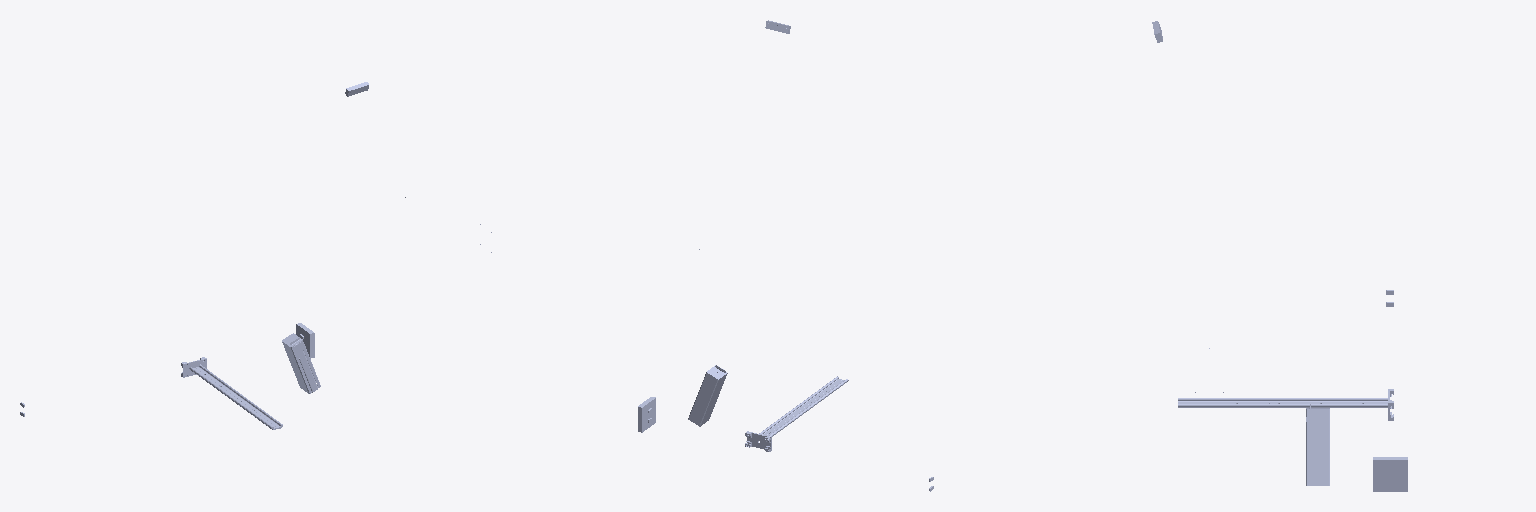
--- Facts derived from the render (not from the file) ---
Views: 3 orthographic renders of the robot side by side, from view 1: azimuth 30°, elevation 25°; view 2: azimuth 150°, elevation 25°; view 3: azimuth 270°, elevation 25°.
Model robo_description with 21 links and 20 joints (2 revolute, 2 prismatic, 16 fixed), rooted at base_link, posed all joints at 0 but 1 set to mid-range because 0 is outside their limits (joint5 = 0.4665).
Links seen in each view (by area): view 1: link2, link5; view 2: link2, link5, base_link; view 3: link2, link5, base_link.
Link boxes in pixels (x1=…): link2: x1=181, y1=357, x2=282, y2=429; link5: x1=282, y1=333, x2=320, y2=393; link2: x1=745, y1=376, x2=848, y2=451; link5: x1=688, y1=365, x2=727, y2=426; base_link: x1=638, y1=397, x2=933, y2=491; link2: x1=1178, y1=389, x2=1393, y2=420; link5: x1=1306, y1=404, x2=1329, y2=485; base_link: x1=1373, y1=290, x2=1407, y2=491.
Size in the robot's own frame: 1.65 by 0.7304 by 1.43 metres.
Meshes: 6 distinct files referenced, 4 mesh visuals loaded (4 binary STL); not drawn: 2 (reference not matched to a file when rendering).

robot.urdf — robo_description:
<?xml version="1.0" encoding="utf-8"?>
<!-- 25AUG2023 Changed the minimum limit of lJoint5 to 0.247 and max to 0.686 -->
<!-- This URDF was automatically created by SolidWorks to URDF Exporter! Originally created by Stephen Brawner ([email redacted]) 
     Commit Version: 1.6.0-4-g7f85cfe  Build Version: 1.6.7995.38578
     For more information, please see http://wiki.ros.org/sw_urdf_exporter -->
<robot
  name="robo_description">
  <link
    name="base_link">
    <inertial>
      <origin
        xyz="-5.13826234849775E-17 -1.63904738952765E-17 0.339473684210526"
        rpy="0 0 0" />
      <mass
        value="19" />
      <inertia
        ixx="2.34956140350877"
        ixy="1.11311423041845E-17"
        ixz="3.69215798456927E-16"
        iyy="2.34956140350877"
        iyz="-7.44985984223617E-17"
        izz="0.151666666666667" />
    </inertial>
    <visual>
      <origin
        xyz="0 0 0"
        rpy="0 0 0" />
      <geometry>
        <mesh
          filename="package://robo_description/meshes/base_link.STL" />
      </geometry>
      <material
        name="">
        <color
          rgba="0.792156862745098 0.819607843137255 0.933333333333333 1" />
      </material>
    </visual>
    <collision>
      <origin
        xyz="0 0 0"
        rpy="0 0 0" />
      <geometry>
        <mesh
          filename="package://robo_description/meshes/base_link.STL" />
      </geometry>
    </collision>
  </link>
  <link
    name="link2">
    <inertial>
      <origin
        xyz="-0.001261 -0.2858 0.14572"
        rpy="0 0 0" />
      <mass
        value="3.13280329013611" />
      <inertia
        ixx="0.0169430024052603"
        ixy="-0.00280446630124331"
        ixz="0.0223183329111622"
        iyy="0.162057682822749"
        iyz="0.000505061238040558"
        izz="0.161640952999751" />
    </inertial>
    <visual>
      <origin
        xyz="0 0 -1"
        rpy="0 0 0" />
      <geometry>
        <mesh
          filename="package://robo_description/meshes/link2.STL" />
      </geometry>
      <material
        name="">
        <color
          rgba="0.792156862745098 0.819607843137255 0.933333333333333 1" />
      </material>
    </visual>
    <collision>
      <origin
        xyz="0 0 0"
        rpy="0 0 0" />
      <geometry>
        <mesh
          filename="package://robo_description/meshes/link2.STL" />
      </geometry>
    </collision>
  </link>
  <joint
    name="joint2"
    type="prismatic">
    <origin
      xyz="0.0 0 1"
      rpy="0 0 0" />
    <parent
      link="base_link" />
    <child
      link="link2" />
    <axis
      xyz="0 0 1" />
    <limit
      lower="0"
      upper="1"
      effort="0"
      velocity="0" />
  </joint>
  <link
    name="link4">
    <inertial>
      <origin
        xyz="-0.000438554587764983 0.0620490502692163 -0.172885898172371"
        rpy="0 0 0" />
      <mass
        value="0.162146723185788" />
      <inertia
        ixx="0.00336616371871891"
        ixy="1.46811284877534E-06"
        ixz="-3.57096843523024E-06"
        iyy="0.00312866852492012"
        iyz="0.00048231220150353"
        izz="0.000338308018448651" />
    </inertial>
    <visual>
      <origin
        xyz="-0.4665 0 -0.790"
        rpy="0 0 0" />
      <geometry>
        <mesh
          filename="package://robo_description/meshes/link4.STL" />
      </geometry>
      <material
        name="">
        <color
          rgba="0.792156862745098 0.819607843137255 0.933333333333333 1" />
      </material>
    </visual>
    <collision>
      <origin
        xyz="0 0 0"
        rpy="0 0 0" />
      <geometry>
        <mesh
          filename="package://robo_description/meshes/link4.STL" />
      </geometry>
    </collision>
  </link>
  <joint
    name="joint4"
    type="revolute">
    <origin
      xyz="0.46904 0 -0.21"
      rpy="0 0 0" />
    <parent
      link="link2" />
    <child
      link="link4" />
    <axis
      xyz="0 0 1" />
    <limit
      lower="-2.9671"
      upper="2.9671"
      effort="0"
      velocity="0" />
  </joint>
  <link
    name="link3">
    <inertial>
      <origin
        xyz="-0.0832189655707039 -0.0894795892974461 -0.00179630042130147"
        rpy="0 0 0" />
      <mass
        value="1.71811977068641" />
      <inertia
        ixx="0.00948440583507882"
        ixy="-0.00159429497921182"
        ixz="0.00308193362516688"
        iyy="0.035537875179704"
        iyz="0.000648421421055908"
        izz="0.0305779645247813" />
    </inertial>
    <visual>
      <origin
        xyz="-0.468545 -0.078 -0.43528"
        rpy="0 0 0" />
      <geometry>
        <mesh
          filename="package://robo_description/meshes/link3.STL" />
      </geometry>
      <material
        name="">
        <color
          rgba="0.792156862745098 0.819607843137255 0.933333333333333 1" />
      </material>
    </visual>
    <collision>
      <origin
        xyz="0 0 0"
        rpy="0 0 0" />
      <geometry>
        <mesh
          filename="package://robo_description/meshes/link3.STL" />
      </geometry>
    </collision>
  </link>
  <joint
    name="joint3"
    type="revolute">
    <origin
      xyz="0.0 0.077824 -0.35472"
      rpy="0 0 0" />
    <parent
      link="link4" />
    <child
      link="link3" />
    <axis
      xyz="0 1 0" />
    <limit
      lower="-1.5708"
      upper="1.5708"
      effort="0"
      velocity="0" />
  </joint>
  <link
    name="yanthra_link">
    <inertial>
      <origin
        xyz="-0.0832189655707036 -0.0114795892974462 -0.00179630042130124"
        rpy="0 0 0" />
      <mass
        value="1.71811977068641" />
      <inertia
        ixx="0.00948440583507882"
        ixy="-0.00159429497921182"
        ixz="0.0030819336251669"
        iyy="0.035537875179704"
        iyz="0.000648421421055907"
        izz="0.0305779645247813" />
    </inertial>
    <visual>
      <origin
        xyz="0 0 0"
        rpy="0 0 0" />
      <geometry>
        <box size="0.001 0.001 0.001"/>
      </geometry>
      <material
        name="">
        <color
          rgba="0.792156862745098 0.819607843137255 0.933333333333333 1" />
      </material>
    </visual>
    <collision>
      <origin
        xyz="0 0 0"
        rpy="0 0 0" />
      <geometry>
        <box size="0.001 0.001 0.001"/>
      </geometry>
    </collision>
  </link>
  <joint
    name="yanthra_joint"
    type="fixed">
    <origin
      xyz="0 -0.078 0"
      rpy="0 0 0" />
    <parent
      link="link3" />
    <child
      link="yanthra_link" />
    <axis
      xyz="0 0 0" />
  </joint>
  <link
    name="link5_origin">
    <inertial>
      <origin
        xyz="-0.00874999999999998 0.0375 -0.00507843424240889"
        rpy="0 0 0" />
      <mass
        value="0.0438088883035136" />
      <inertia
        ixx="3.24913884800222E-05"
        ixy="1.33063310958086E-21"
        ixz="-8.470329472543E-22"
        iyy="3.99574478810853E-06"
        iyz="-3.38875204913906E-21"
        izz="3.07317223657389E-05" />
    </inertial>
    <visual>
      <origin
        xyz="0 0 0"
        rpy="0 0 0" />
      <geometry>
        <box size="0.001 0.001 0.001"/>
      </geometry>
      <material
        name="">
        <color
          rgba="0.792156862745098 0.819607843137255 0.933333333333333 1" />
      </material>
    </visual>
    <collision>
      <origin
        xyz="0 0 0"
        rpy="0 0 0" />
      <geometry>
        <box size="0.001 0.001 0.001"/>
      </geometry>
    </collision>
  </link>
  <joint
    name="link5_origin_joint"
    type="fixed">
    <origin
      xyz="0 0 0.0"
      rpy="0 0 0" />
    <parent	
      link="yanthra_link" />
    <child
      link="link5_origin" />
    <axis
      xyz="0 0 0" />
  </joint>
  <link
    name="link5">
    <inertial>
      <origin
        xyz="0.108132413871145 2.08242781028485E-06 0.00569147154470495"
        rpy="0 0 0" />
      <mass
        value="0.277404400359573" />
      <inertia
        ixx="0.00021628976171093"
        ixy="1.27900715148446E-06"
        ixz="-0.000135093187106687"
        iyy="0.00359200319167061"
        iyz="-8.36237914028336E-08"
        izz="0.00358633509004247" />
    </inertial>
    <visual>
      <origin
        xyz="-0.715545 0 -0.43528"
        rpy="0 0 0" />
      <geometry>
        <mesh
          filename="package://robo_description/meshes/link5.STL" />
      </geometry>
      <material
        name="">
        <color
          rgba="0.792156862745098 0.819607843137255 0.933333333333333 1" />
      </material>
    </visual>
    <collision>
      <origin
        xyz="0 0 0"
        rpy="0 0 0" />
      <geometry>
        <mesh
          filename="package://robo_description/meshes/link5.STL" />
      </geometry>
    </collision>
  </link>
  <joint
    name="joint5"
    type="prismatic">
    <origin
      xyz="0.0 0 0"
      rpy="0 0 0" />
    <parent
      link="link5_origin" />
    <child
      link="link5" />
    <axis
      xyz="1 0 0" />
    <limit
      lower="0.247"
      upper="0.686"
      effort="0"
      velocity="0" />
  </joint>
  <link
    name="ee_link">
    <inertial>
      <origin
        xyz="-0.00874999999999998 0.0375 -0.00507843424240889"
        rpy="0 0 0" />
      <mass
        value="0.0438088883035136" />
      <inertia
        ixx="3.24913884800222E-05"
        ixy="1.33063310958086E-21"
        ixz="-8.470329472543E-22"
        iyy="3.99574478810853E-06"
        iyz="-3.38875204913906E-21"
        izz="3.07317223657389E-05" />
    </inertial>
    <visual>
      <origin
        xyz="0 0 0"
        rpy="0 0 0" />
      <geometry>
        <box size="0.001 0.001 0.001"/>
      </geometry>
      <material
        name="">
        <color
          rgba="0.792156862745098 0.819607843137255 0.933333333333333 1" />
      </material>
    </visual>
    <collision>
      <origin
        xyz="0 0 0"
        rpy="0 0 0" />
      <geometry>
        <box size="0.001 0.001 0.001"/>
      </geometry>
    </collision>
  </link>
  <joint
    name="ee_joint"
    type="fixed">
    <origin
      xyz="-0.085 0 0"
      rpy="0 0 0" />
    <parent	
      link="link5" />
    <child
      link="ee_link" />
    <axis
      xyz="0 0 0" />
  </joint>
  <link
    name="aruco_marker_link">
    <inertial>
      <origin
        xyz="-0.00874999999999998 0.0375 -0.00507843424240889"
        rpy="0 0 0" />
      <mass
        value="0.0438088883035136" />
      <inertia
        ixx="3.24913884800222E-05"
        ixy="1.33063310958086E-21"
        ixz="-8.470329472543E-22"
        iyy="3.99574478810853E-06"
        iyz="-3.38875204913906E-21"
        izz="3.07317223657389E-05" />
    </inertial>
    <visual>
      <origin
        xyz="0 0 0"
        rpy="0 0 0" />
      <geometry>
        <box size="0.001 0.001 0.001"/>
      </geometry>
      <material
        name="">
        <color
          rgba="0.792156862745098 0.819607843137255 0.933333333333333 1" />
      </material>
    </visual>
    <collision>
      <origin
        xyz="0 0 0"
        rpy="0 0 0" />
      <geometry>
        <box size="0.001 0.001 0.001"/>
      </geometry>
    </collision>
  </link>
  <joint
    name="aruco_joint"
    type="fixed">
    <origin
      xyz="0.0 0 0.08"
      rpy="0 0 0" />
    <parent	
      link="ee_link" />
    <child
      link="aruco_marker_link" />
    <axis
      xyz="0 0 0" />
  </joint>
  <link
    name="aruco_link_1">
    <inertial>
      <origin
        xyz="-0.00874999999999998 0.0375 -0.00507843424240889"
        rpy="0 0 0" />
      <mass
        value="0.0438088883035136" />
      <inertia
        ixx="3.24913884800222E-05"
        ixy="1.33063310958086E-21"
        ixz="-8.470329472543E-22"
        iyy="3.99574478810853E-06"
        iyz="-3.38875204913906E-21"
        izz="3.07317223657389E-05" />
    </inertial>
    <visual>
      <origin
        xyz="0 0 0"
        rpy="0 0 0" />
      <geometry>
        <box size="0.001 0.001 0.001"/>
      </geometry>
      <material
        name="">
        <color
          rgba="0.792156862745098 0.819607843137255 0.933333333333333 1" />
      </material>
    </visual>
    <collision>
      <origin
        xyz="0 0 0"
        rpy="0 0 0" />
      <geometry>
        <box size="0.001 0.001 0.001"/>
      </geometry>
    </collision>
  </link>
  <joint
    name="aruco_joint_1"
    type="fixed">
    <origin
      xyz="0.0 0.04 0.04"
      rpy="0 0 0" />
    <parent	
      link="aruco_marker_link" />
    <child
      link="aruco_link_1" />
    <axis
      xyz="0 0 0" />
  </joint>
  <link
    name="aruco_link_2">
    <inertial>
      <origin
        xyz="-0.00874999999999998 0.0375 -0.00507843424240889"
        rpy="0 0 0" />
      <mass
        value="0.0438088883035136" />
      <inertia
        ixx="3.24913884800222E-05"
        ixy="1.33063310958086E-21"
        ixz="-8.470329472543E-22"
        iyy="3.99574478810853E-06"
        iyz="-3.38875204913906E-21"
        izz="3.07317223657389E-05" />
    </inertial>
    <visual>
      <origin
        xyz="0 0 0"
        rpy="0 0 0" />
      <geometry>
        <box size="0.001 0.001 0.001"/>
      </geometry>
      <material
        name="">
        <color
          rgba="0.792156862745098 0.819607843137255 0.933333333333333 1" />
      </material>
    </visual>
    <collision>
      <origin
        xyz="0 0 0"
        rpy="0 0 0" />
      <geometry>
        <box size="0.001 0.001 0.001"/>
      </geometry>
    </collision>
  </link>
  <joint
    name="aruco_joint_2"
    type="fixed">
    <origin
      xyz="0.0 -0.04 0.04"
      rpy="0 0 0" />
    <parent	
      link="aruco_marker_link" />
    <child
      link="aruco_link_2" />
    <axis
      xyz="0 0 0" />
  </joint>
  <link
    name="aruco_link_3">
    <inertial>
      <origin
        xyz="-0.00874999999999998 0.0375 -0.00507843424240889"
        rpy="0 0 0" />
      <mass
        value="0.0438088883035136" />
      <inertia
        ixx="3.24913884800222E-05"
        ixy="1.33063310958086E-21"
        ixz="-8.470329472543E-22"
        iyy="3.99574478810853E-06"
        iyz="-3.38875204913906E-21"
        izz="3.07317223657389E-05" />
    </inertial>
    <visual>
      <origin
        xyz="0 0 0"
        rpy="0 0 0" />
      <geometry>
        <box size="0.001 0.001 0.001"/>
      </geometry>
      <material
        name="">
        <color
          rgba="0.792156862745098 0.819607843137255 0.933333333333333 1" />
      </material>
    </visual>
    <collision>
      <origin
        xyz="0 0 0"
        rpy="0 0 0" />
      <geometry>
        <box size="0.001 0.001 0.001"/>
      </geometry>
    </collision>
  </link>
  <joint
    name="aruco_joint_3"
    type="fixed">
    <origin
      xyz="0.0 0.04 -0.04"
      rpy="0 0 0" />
    <parent	
      link="aruco_marker_link" />
    <child
      link="aruco_link_3" />
    <axis
      xyz="0 0 0" />
  </joint>
  <link
    name="aruco_link_4">
    <inertial>
      <origin
        xyz="-0.00874999999999998 0.0375 -0.00507843424240889"
        rpy="0 0 0" />
      <mass
        value="0.0438088883035136" />
      <inertia
        ixx="3.24913884800222E-05"
        ixy="1.33063310958086E-21"
        ixz="-8.470329472543E-22"
        iyy="3.99574478810853E-06"
        iyz="-3.38875204913906E-21"
        izz="3.07317223657389E-05" />
    </inertial>
    <visual>
      <origin
        xyz="0 0 0"
        rpy="0 0 0" />
      <geometry>
        <box size="0.001 0.001 0.001"/>
      </geometry>
      <material
        name="">
        <color
          rgba="0.792156862745098 0.819607843137255 0.933333333333333 1" />
      </material>
    </visual>
    <collision>
      <origin
        xyz="0 0 0"
        rpy="0 0 0" />
      <geometry>
        <box size="0.001 0.001 0.001"/>
      </geometry>
    </collision>
  </link>
  <joint
    name="aruco_joint_4"
    type="fixed">
    <origin
      xyz="0.0 -0.04 -0.04"
      rpy="0 0 0" />
    <parent	
      link="aruco_marker_link" />
    <child
      link="aruco_link_4" />
    <axis
      xyz="0 0 0" />
  </joint>
  <link
    name="link7">
    <inertial>
      <origin
        xyz="-0.00129487747822488 -0.0114795892973884 0.11996423535158"
        rpy="0 0 0" />
      <mass
        value="1.71811977068641" />
      <inertia
        ixx="0.0113386071435481"
        ixy="-0.00171490439294498"
        ixz="-0.00672100859249017"
        iyy="0.0355378751797041"
        iyz="-0.0001460470577602"
        izz="0.0287237632163119" />
    </inertial>
    <visual>
      <origin
        xyz="0 0 0"
        rpy="0 0 0" />
      <geometry>
        <box size="0.001 0.001 0.001"/>
      </geometry>
      <material
        name="">
        <color
          rgba="0.792156862745098 0.819607843137255 0.933333333333333 1" />
      </material>
    </visual>
    <collision>
      <origin
        xyz="0 0 0"
        rpy="0 0 0" />
      <geometry>
        <box size="0.001 0.001 0.001"/>
      </geometry>
    </collision>
  </link>
  <joint
    name="joint7"
    type="fixed">
    <origin
      xyz="0.47229 -0.069971 0.79711"
      rpy="0 0.785398 -1.5708" />
    <parent
      link="base_link"/>
    <child
      link="link7"/>
    <axis
      xyz="0 0 0" />
  </joint>
  <link
    name="camera_mount_link">
    <inertial>
      <origin
        xyz="-0.00129487747822488 -0.0114795892973883 0.11996423535158"
        rpy="0 0 0" />
      <mass
        value="1.71811977068641" />
      <inertia
        ixx="0.0113386071435481"
        ixy="-0.00171490439294498"
        ixz="-0.00672100859249018"
        iyy="0.0355378751797041"
        iyz="-0.000146047057760202"
        izz="0.0287237632163119" />
    </inertial>
    <visual>
      <origin
        xyz="0 0 0"
        rpy="0 0 0" />
      <geometry>
        <box size="0.001 0.001 0.001"/>
      </geometry>
      <material
        name="">
        <color
          rgba="0.792156862745098 0.819607843137255 0.933333333333333 1" />
      </material>
    </visual>
    <collision>
      <origin
        xyz="0 0 0"
        rpy="0 0 0" />
      <geometry>
        <box size="0.001 0.001 0.001"/>
      </geometry>
    </collision>
  </link>
     <!--Realsense Camera depth is 20 mm from back to glass, But the depth start point(GROUND ZERO REFERENCE i.e depth is Zero) is 1.1 mm behind glass-->
     <!--Camera thickness-Zero Ref +Plate thick=20-1.1+2 = 20.09 mm -->
     <!-- xyz="0.0209 -0.0375 0"-->
  <joint
    name="camera_mount_joint"
    type="fixed">
    <origin
      xyz="0.02090 -0.0375 0"
      rpy="-1.5708 0 -1.5708" />
    <parent
      link="link7" />
    <child
      link="camera_mount_link" />
    <axis
      xyz="0 0 0" />
  </joint>
  <link
    name="virtual_cam_link">
    <inertial>
      <origin
        xyz="-0.00874999999999998 0.0375 -0.00507843424240889"
        rpy="0 0 0" />
      <mass
        value="0.0438088883035136" />
      <inertia
        ixx="3.24913884800222E-05"
        ixy="1.33063310958086E-21"
        ixz="-8.470329472543E-22"
        iyy="3.99574478810853E-06"
        iyz="-3.38875204913906E-21"
        izz="3.07317223657389E-05" />
    </inertial>
    <visual>
      <origin
        xyz="0 0 0"
        rpy="0 0 0" />
      <geometry>
        <box size="0.001 0.001 0.001"/>
      </geometry>
      <material
        name="">
        <color
          rgba="0.792156862745098 0.819607843137255 0.933333333333333 1" />
      </material>
    </visual>
    <collision>
      <origin
        xyz="0 0 0"
        rpy="0 0 0" />
      <geometry>
        <box size="0.001 0.001 0.001"/>
      </geometry>
    </collision>
  </link>
  <joint
    name="virtual_cam_link_joint"
    type="fixed">
    <origin
      xyz="0 0 0"
      rpy="0 0 0" />
    <parent	
      link="camera_mount_link" />
    <child
      link="virtual_cam_link" />
    <axis
      xyz="0 0 0" />
  </joint>

  <link
    name="camera_link">
    <inertial>
      <origin
        xyz="-0.00874999999999998 0.0375 -0.00507843424240889"
        rpy="0 0 0" />
      <mass
        value="0.0438088883035136" />
      <inertia
        ixx="3.24913884800222E-05"
        ixy="1.33063310958086E-21"
        ixz="-8.470329472543E-22"
        iyy="3.99574478810853E-06"
        iyz="-3.38875204913906E-21"
        izz="3.07317223657389E-05" />
    </inertial>
    <visual>
      <origin
        xyz="-0.03768 -0.425 -0.175"
        rpy="0 -2.04 -1.5708" />
      <geometry>
        <mesh
          filename="package://robo_description/meshes/camera_link.STL" />
      </geometry>
      <material
        name="">
        <color
          rgba="0.792156862745098 0.819607843137255 0.933333333333333 1" />
      </material>
    </visual>
    <collision>
      <origin
        xyz="0 0 0"
        rpy="0 0 0" />
      <geometry>
        <mesh
          filename="package://robo_description/meshes/camera_link.STL" />
      </geometry>
    </collision>
  </link>
  <joint
    name="camera_link_joint"
    type="fixed">
    <origin
      xyz="-0.00641791 0.0306783 0.0260621"
      rpy="0.135334 -0.07644 -0.0235117" />
    <parent
      link="virtual_cam_link" />
    <child
      link="camera_link" />
    <axis
      xyz="0 0 0" />
  </joint>

  <link name="camera_depth_frame">

    <visual>

    <origin xyz="0 0 0" rpy="0 0 0" />

      <geometry>

        <box size="0.001 0.001 0.001"/>

      </geometry>

    </visual>

  </link>

  <joint name="camera_depth_frame_joint" type="fixed">

    <origin rpy="0 0 0" xyz="0 0 0"/>

    <parent link="camera_link"/>

    <child link="camera_depth_frame"/>

  </joint>

  <link name="camera_depth_optical_frame">

    <visual>

    <origin xyz="0 0 0" rpy="0 0 0" />

      <geometry>

        <box size="0.001 0.001 0.001"/>

      </geometry>

    </visual>

  </link>

  <joint name="camera_depth_optical_frame_joint" type="fixed">

   <origin rpy="0 0 0" xyz="0 0 0"/>

   <parent link="camera_depth_frame"/>

   <child link="camera_depth_optical_frame"/>

  </joint>

  <link name="camera_color_frame">

    <visual>

    <origin xyz="0 0 0" rpy="0 0 0" />

      <geometry>

        <box size="0.001 0.001 0.001"/>

      </geometry>

    </visual>

  </link>

  <joint name="camera_color_frame_joint" type="fixed">

    <origin rpy="0 0 0" xyz="0 0 0"/>

    <parent link="camera_link"/>

    <child link="camera_color_frame"/>

  </joint>

  <link name="camera_color_optical_frame">

    <visual>

    <origin xyz="0 0 0" rpy="0 0 0" />

      <geometry>

        <box size="0.001 0.001 0.001"/>

      </geometry>

    </visual>

  </link>

  <joint name="camera_color_optical_frame_joint" type="fixed">

   <origin rpy="0 0 0" xyz="0 0 0"/>

   <parent link="camera_color_frame"/>

   <child link="camera_color_optical_frame"/>

  </joint>
  <gazebo reference="stand">

    <material>Gazebo/Grey</material>

  </gazebo>

  <gazebo reference="link3">

    <material>Gazebo/Green</material>

  </gazebo>

  <gazebo reference="link4">

    <material>Gazebo/Red</material>

  </gazebo>

  <gazebo reference="link5">

    <material>Gazebo/Green</material>

  </gazebo>

  <gazebo reference="link9">

    <material>Gazebo/Red</material>

  </gazebo>

  <gazebo reference="link6">

    <material>Gazebo/White</material>

  </gazebo>

  <transmission name="tran1">

    <type>transmission_interface/SimpleTransmission</type>

    <joint name="joint3">

      <hardwareInterface>hardware_interface/PositionJointInterface</hardwareInterface>

    </joint>

    <actuator name="motor1">

      <hardwareInterface>hardware_interface/PositionJointInterface</hardwareInterface>

      <mechanicalReduction>1</mechanicalReduction>

    </actuator>

  </transmission>

  <transmission name="tran1">

    <type>transmission_interface/SimpleTransmission</type>

    <joint name="joint4">

      <hardwareInterface>hardware_interface/PositionJointInterface</hardwareInterface>

    </joint>

    <actuator name="motor1">

      <hardwareInterface>hardware_interface/PositionJointInterface</hardwareInterface>

      <mechanicalReduction>1</mechanicalReduction>

    </actuator>

  </transmission>

  <transmission name="tran1">

    <type>transmission_interface/SimpleTransmission</type>

    <joint name="joint5">

      <hardwareInterface>hardware_interface/PositionJointInterface</hardwareInterface>

    </joint>

    <actuator name="motor1">

      <hardwareInterface>hardware_interface/PositionJointInterface</hardwareInterface>

      <mechanicalReduction>1</mechanicalReduction>

    </actuator>

  </transmission>

  <gazebo>

    <plugin filename="libgazebo_ros_control.so" name="gazebo_ros_control">

      <robotNameSpace>/arm_controller</robotNameSpace>

    </plugin>

  </gazebo>

</robot>
